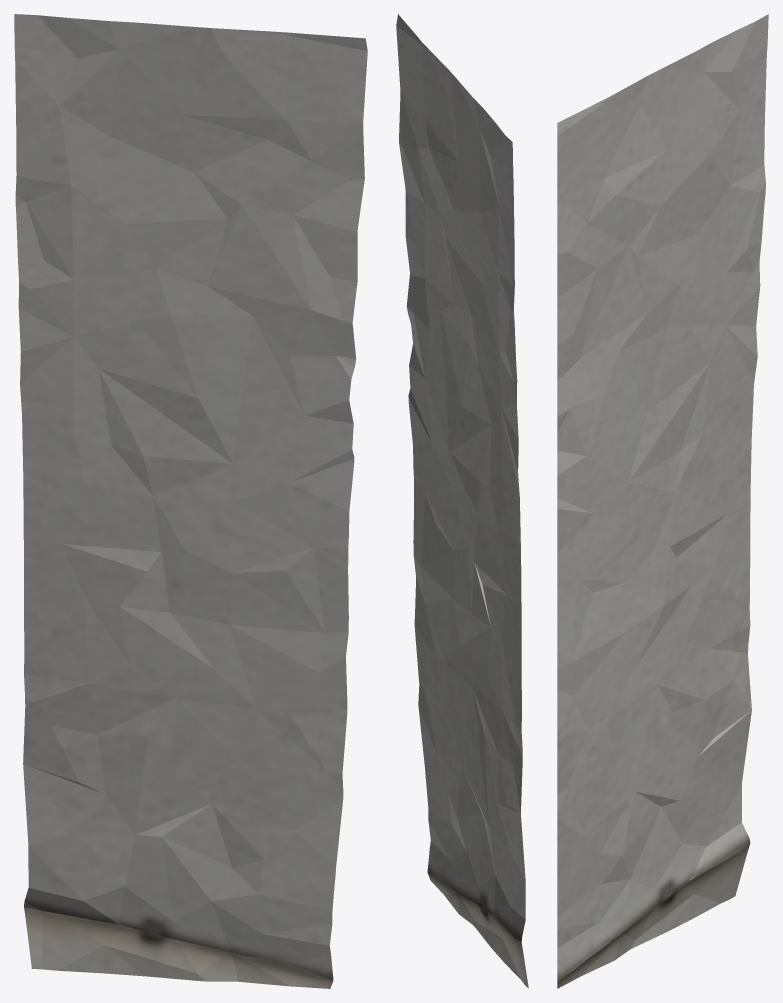
3 views of the same model, side by side, from view 1: azimuth 30°, elevation 25°; view 2: azimuth 150°, elevation 25°; view 3: azimuth 270°, elevation 25° (orthographic). The views are drawn at different scales.
Bounding box in the file's own units: 0.224 × 0.8374 × 0.1819.
Materials: 1 (1 with a texture image).
